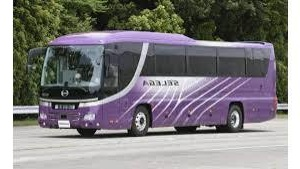bus: (41, 31, 276, 136)
